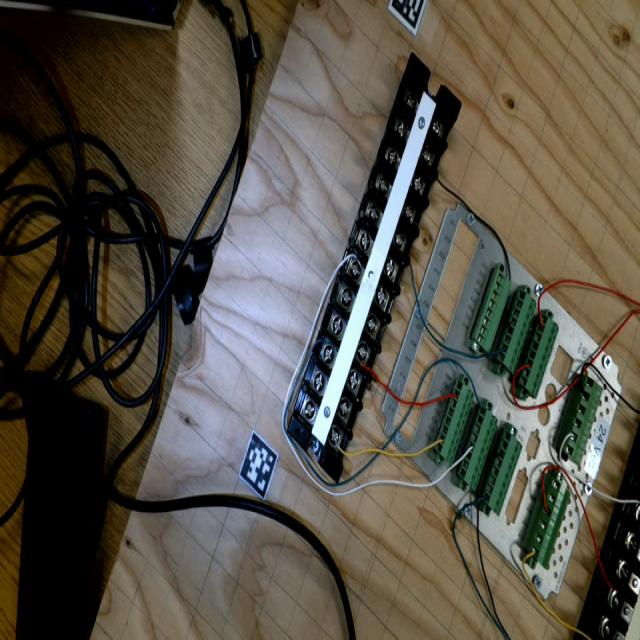Phillips_Block: (277, 52, 472, 483)
Terminal_1: (525, 477, 575, 570), (559, 375, 607, 466)
Terminal_2: (478, 426, 527, 517), (430, 377, 479, 467), (454, 403, 502, 492), (515, 311, 563, 399), (494, 288, 540, 375)
